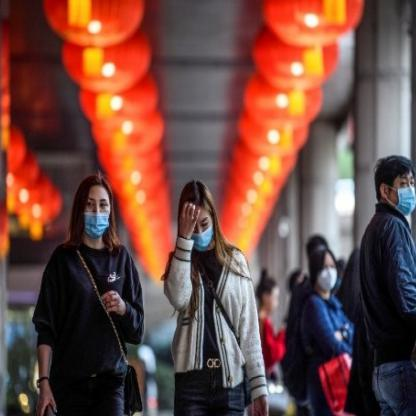Wearing_Mask: (81, 192, 111, 240), (390, 171, 415, 216), (186, 214, 214, 251), (316, 262, 338, 292)
